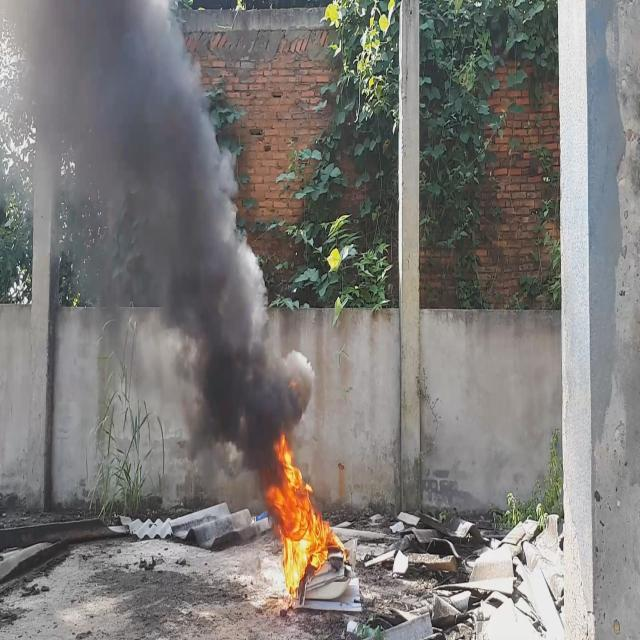Fire: (266, 432, 332, 596)
Smoke: (0, 0, 316, 495)
